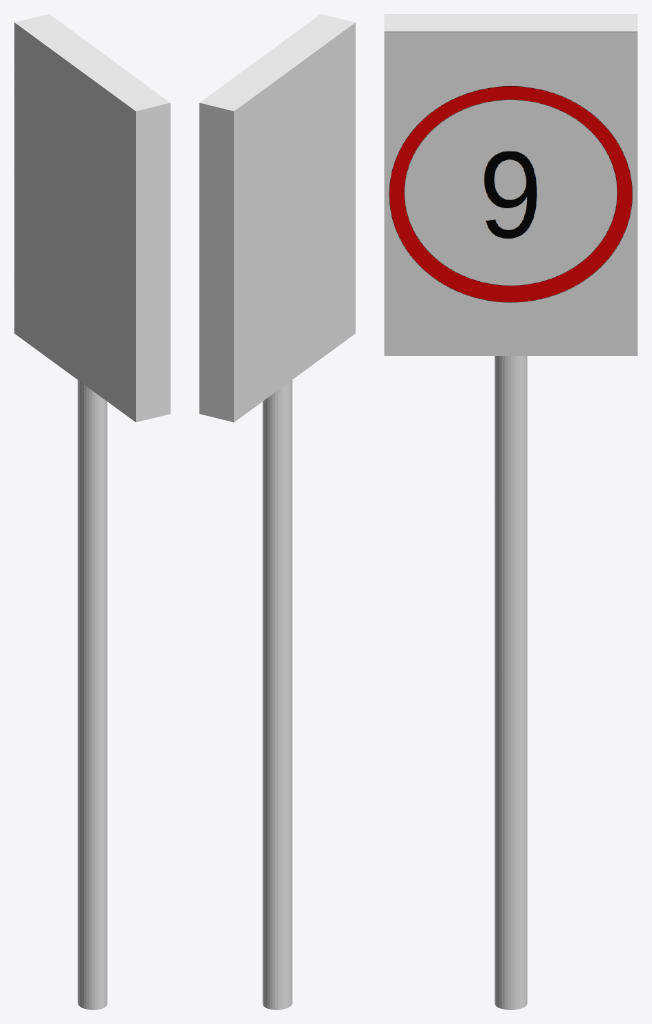
The model's file is sign9.dae.
3 views of the same model, side by side, from view 1: azimuth 30°, elevation 25°; view 2: azimuth 150°, elevation 25°; view 3: azimuth 270°, elevation 25° (orthographic). The views are drawn at different scales.
Visible parts, largest first — view 1: Cube; view 2: Cube; view 3: Cube.
Boxes of the visible parts, bbox=[...] form: Cube: bbox=[14, 14, 170, 1009]; Cube: bbox=[199, 14, 355, 1009]; Cube: bbox=[384, 14, 637, 1009].
Bounding box in the file's own units: 0.0692 × 0.42 × 1.8.
